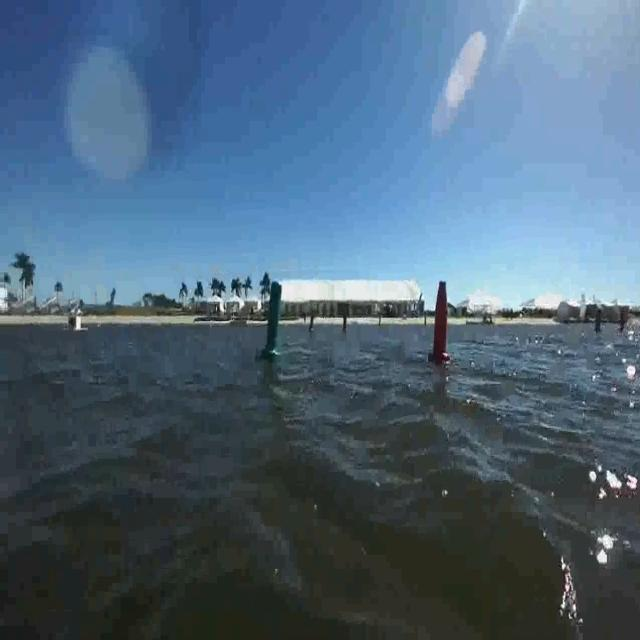green-column-buoy: (261, 279, 286, 359)
red-column-buoy: (430, 276, 451, 361), (343, 314, 350, 334)
